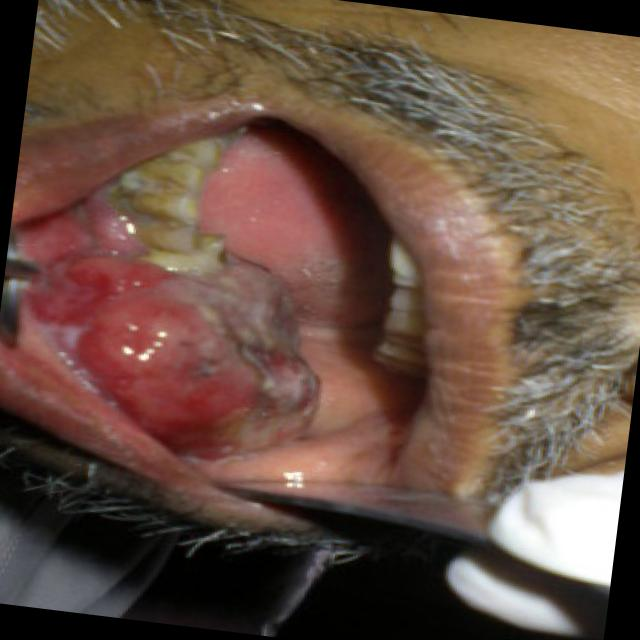Cancer: (12, 208, 332, 468)
